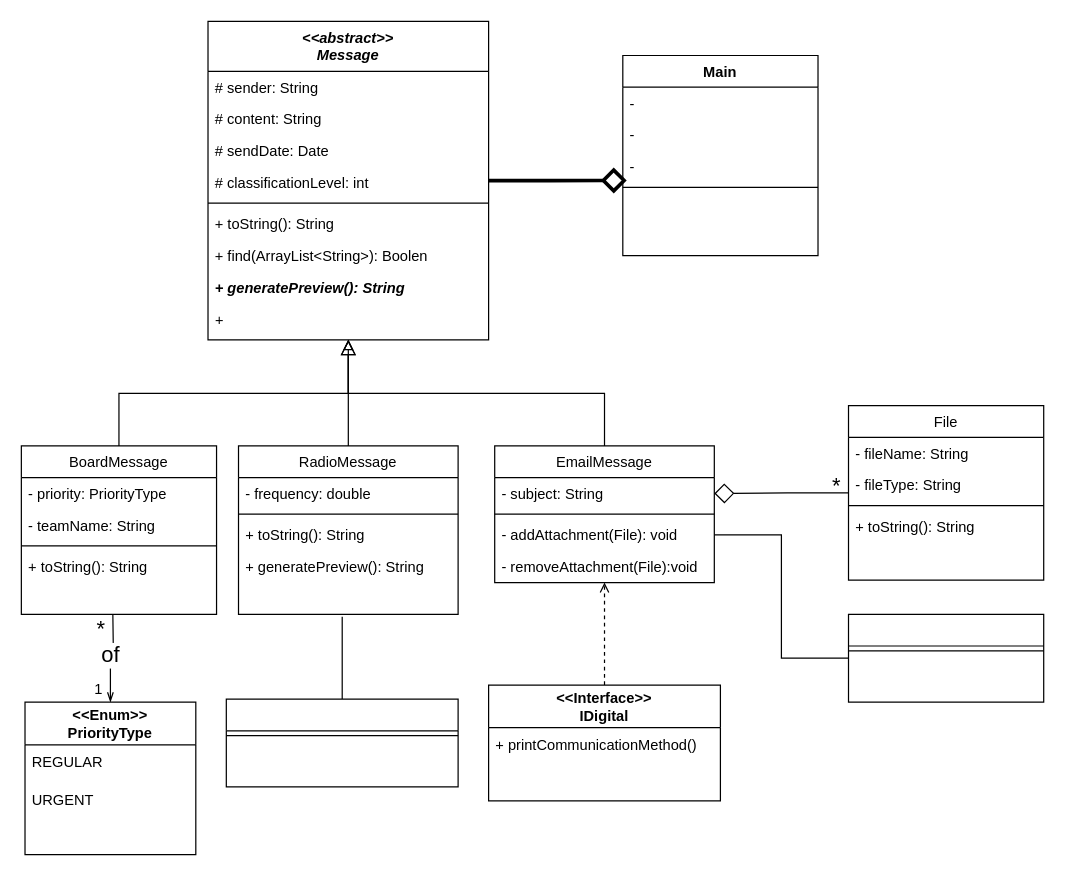
Some shapes in this 1065 by 876 pixel diagram are drawn without their labels. Each missing label, with the centre of its shape:
AttachmentException: (x=945, y=657)
FrequencyOutOfRangeException: (x=341, y=742)
